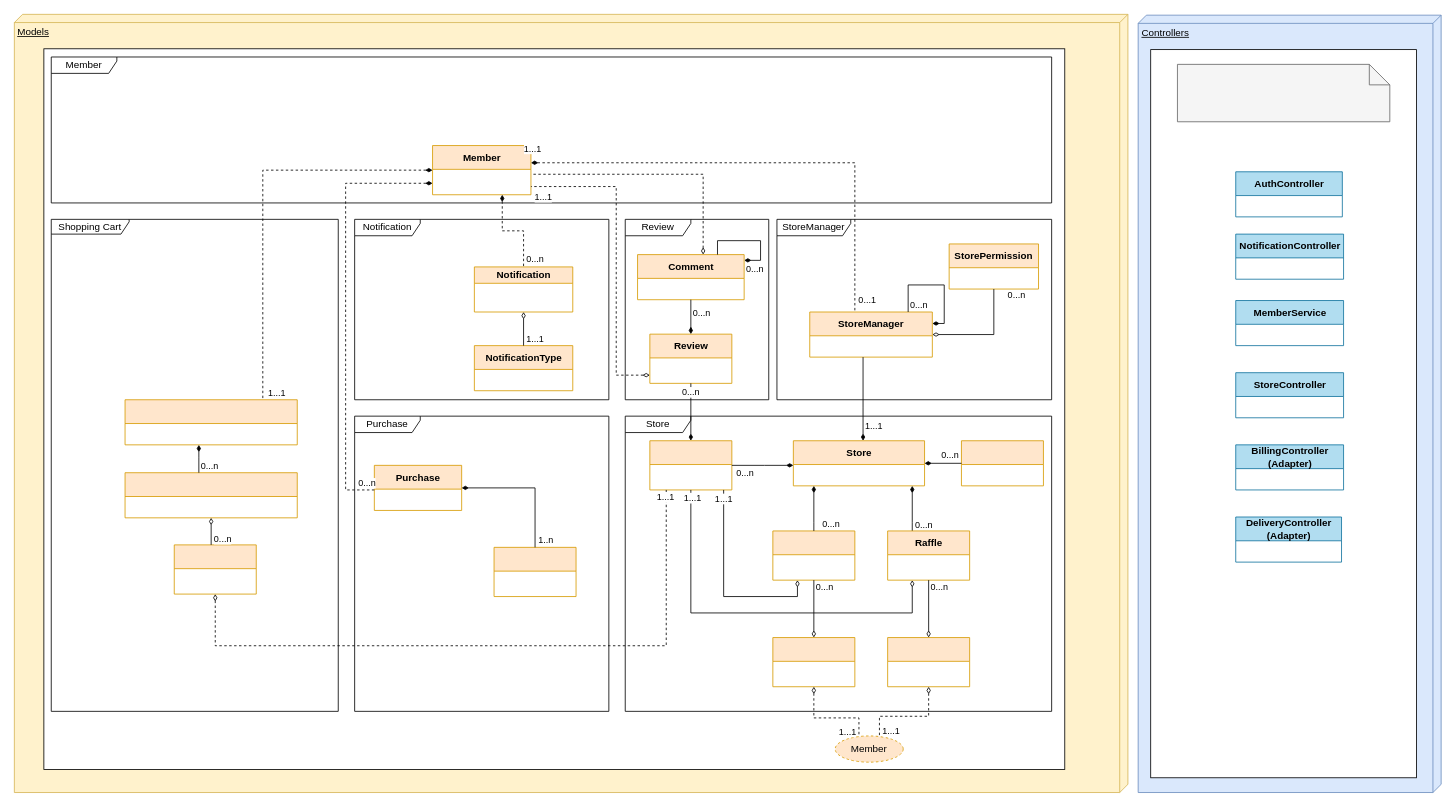
This 1456x807 diagram has some shape labels left out. Here are the shapes that lost their labels. From the top down, the centre of each, then its label:
At [1283,93]: "All services communicate with each other".
At [210,422]: "ShoppingCart".
At [690,465]: "Product".
At [1002,463]: "DiscountRule?".
At [210,495]: "ShoppingBasket".
At [214,569]: "ShoppingItem".
At [534,572]: "PurchaseItem".
At [813,555]: "Auction".
At [813,662]: "AuctionBid".
At [928,662]: "RaffleBid".
